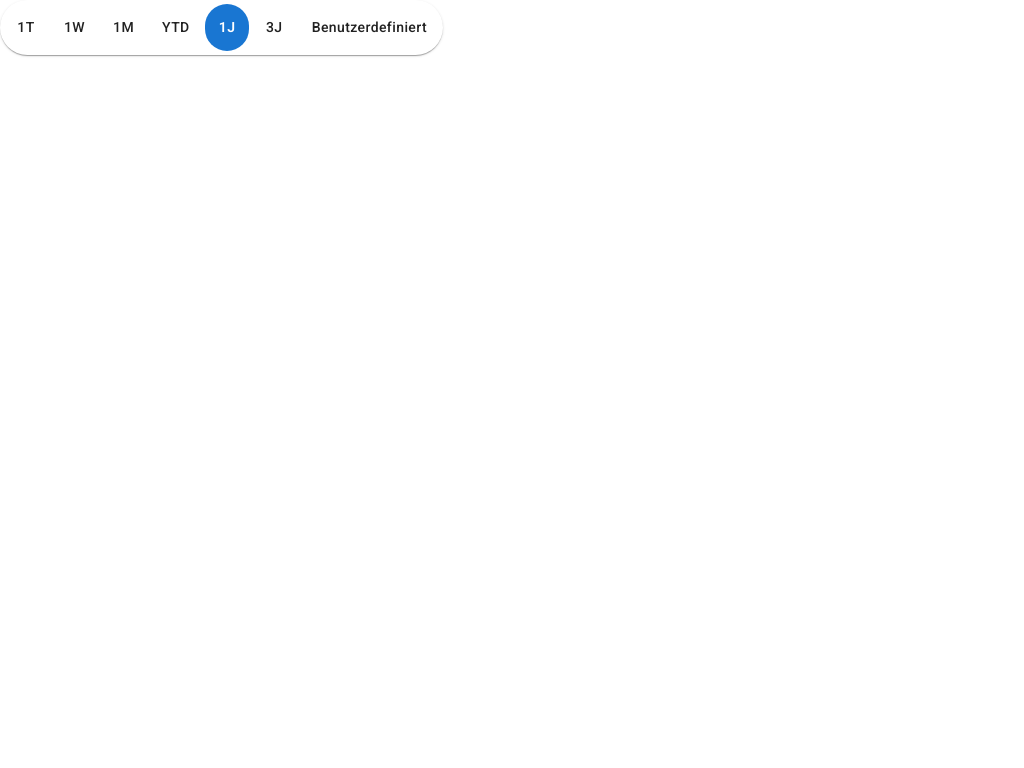
Scenario: PeriodSelector › saves a custom range from the dialog
Click the button "Benutzerdefiniert": (369, 27) [299,4,439,50]
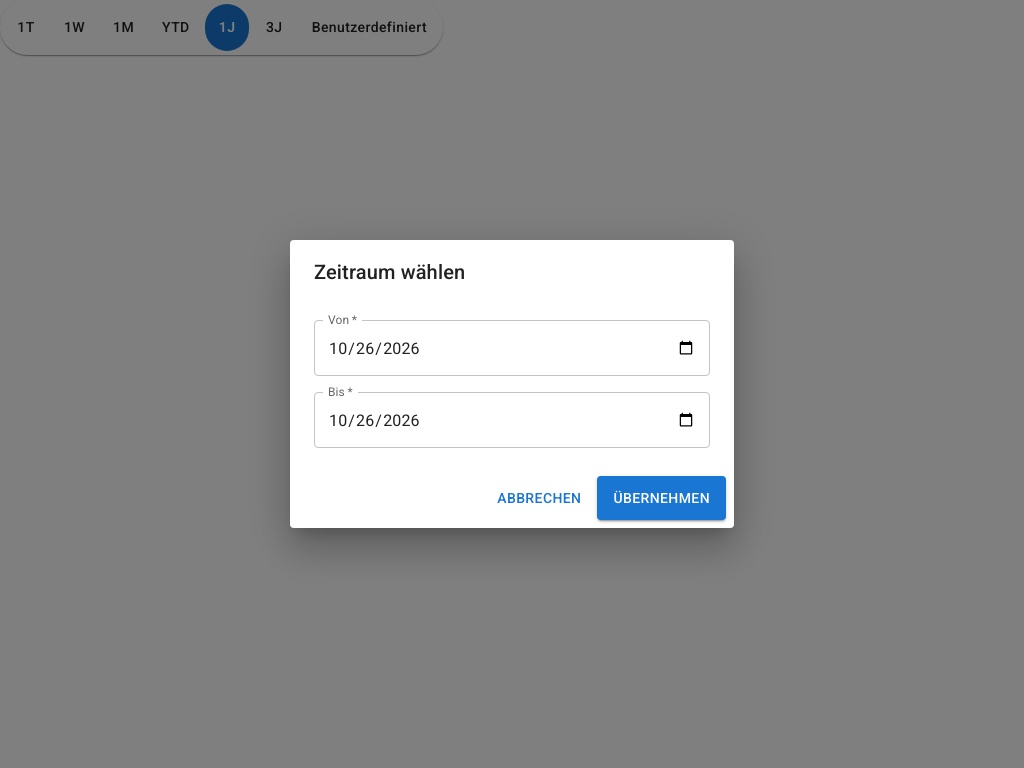
In the date field labelled "Von *": (512, 348) [314,320,710,376], type "2026-01-01"
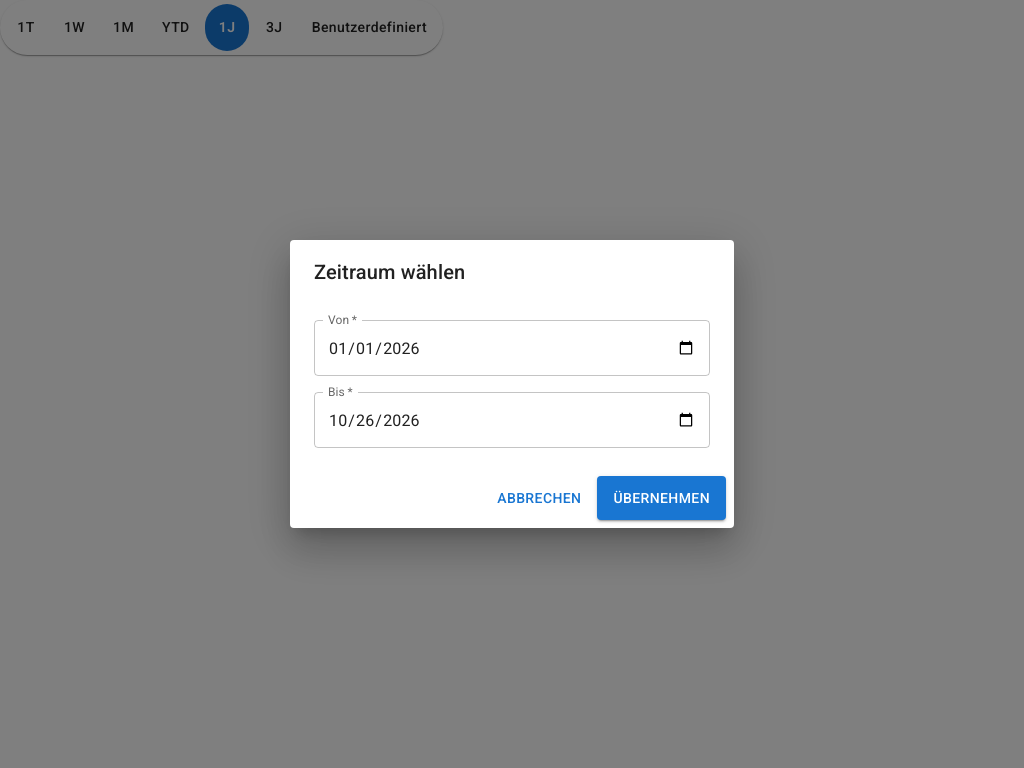
In the date field labelled "Bis *": (512, 420) [314,392,710,448], type "2026-06-30"
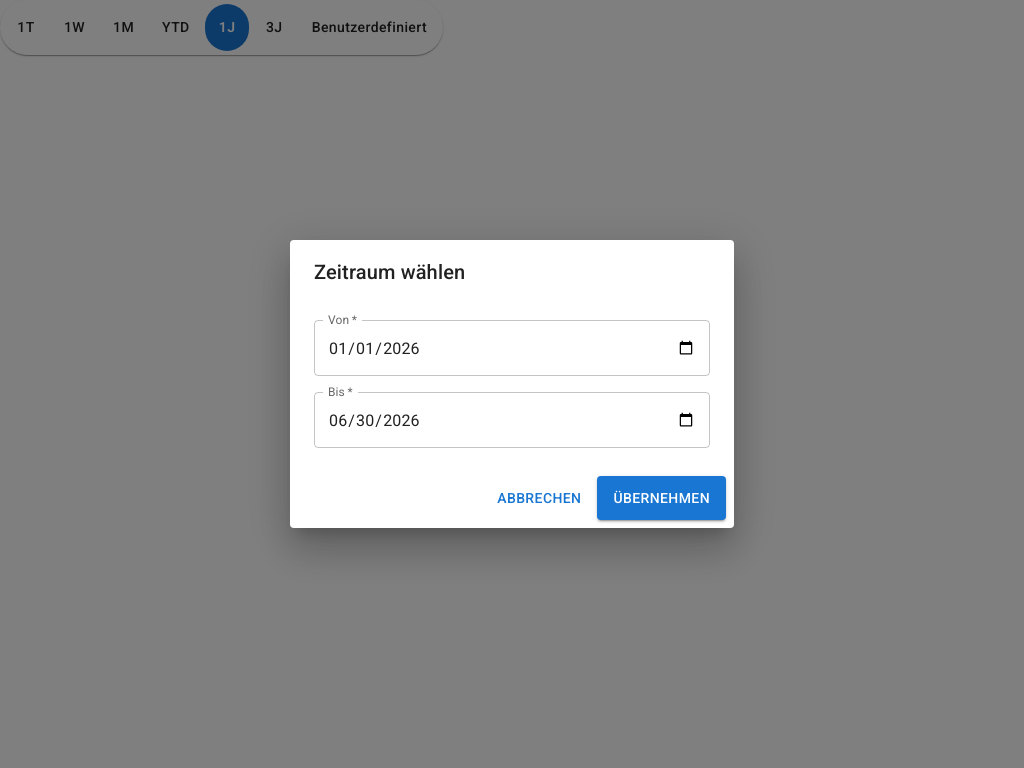
Click the button "Übernehmen": (662, 498) [597,476,726,520]
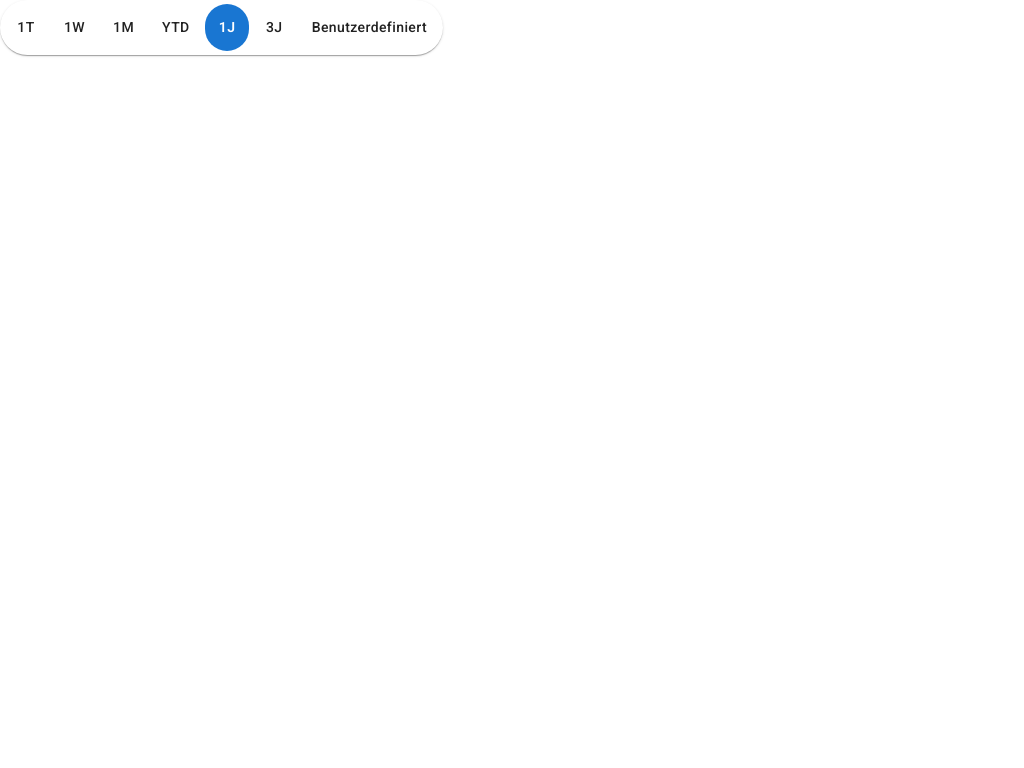
Result: the dialog is gone
